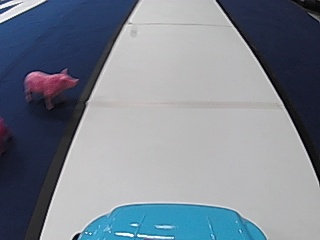pig: (23, 65, 78, 109)
